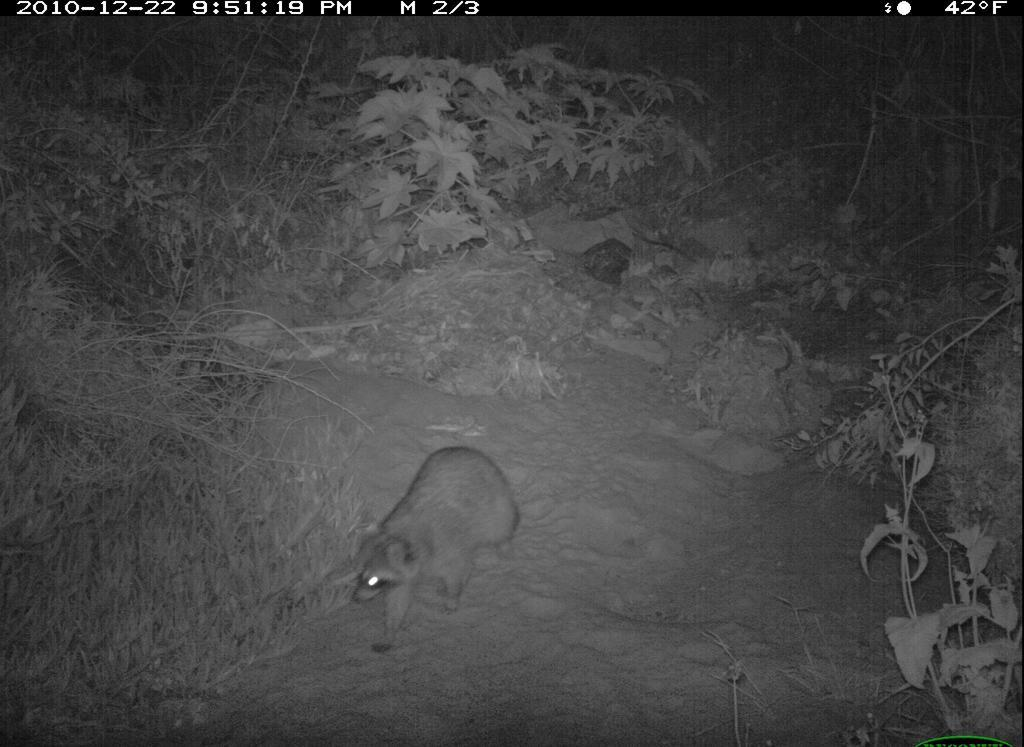raccoon: (344, 438, 533, 651)
